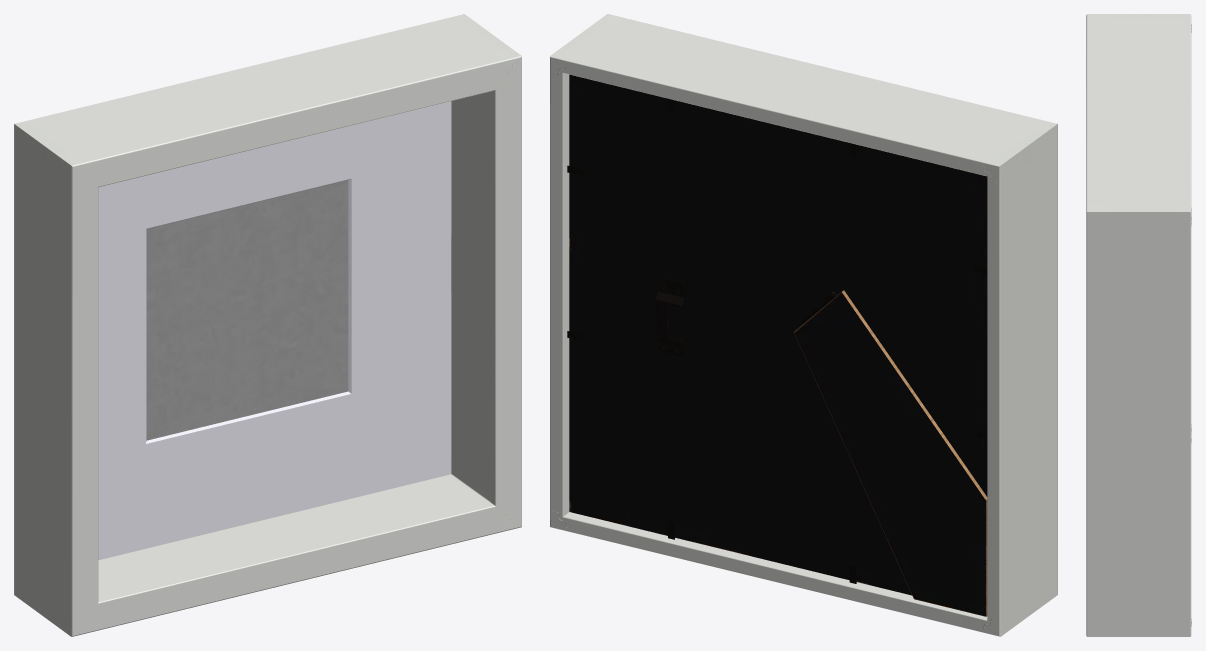
The model's file is small-white.glb.
The picture shows the model from 3 angles, left to right: view 1: azimuth 30°, elevation 25°; view 2: azimuth 150°, elevation 25°; view 3: azimuth 270°, elevation 25°; orthographic projection. The views are drawn at different scales.
Visible parts, largest first — view 1: 1, 2; view 2: 1; view 3: 1.
Part boxes in pixels (x1,y1,x2,y2): 1: (14, 14, 521, 636); 2: (146, 180, 348, 440); 1: (550, 14, 1057, 636); 1: (1086, 14, 1191, 636).
Bounding box in the file's own units: 0.268 × 0.268 × 0.0601.
Materials: 2 (2 with a texture image).
